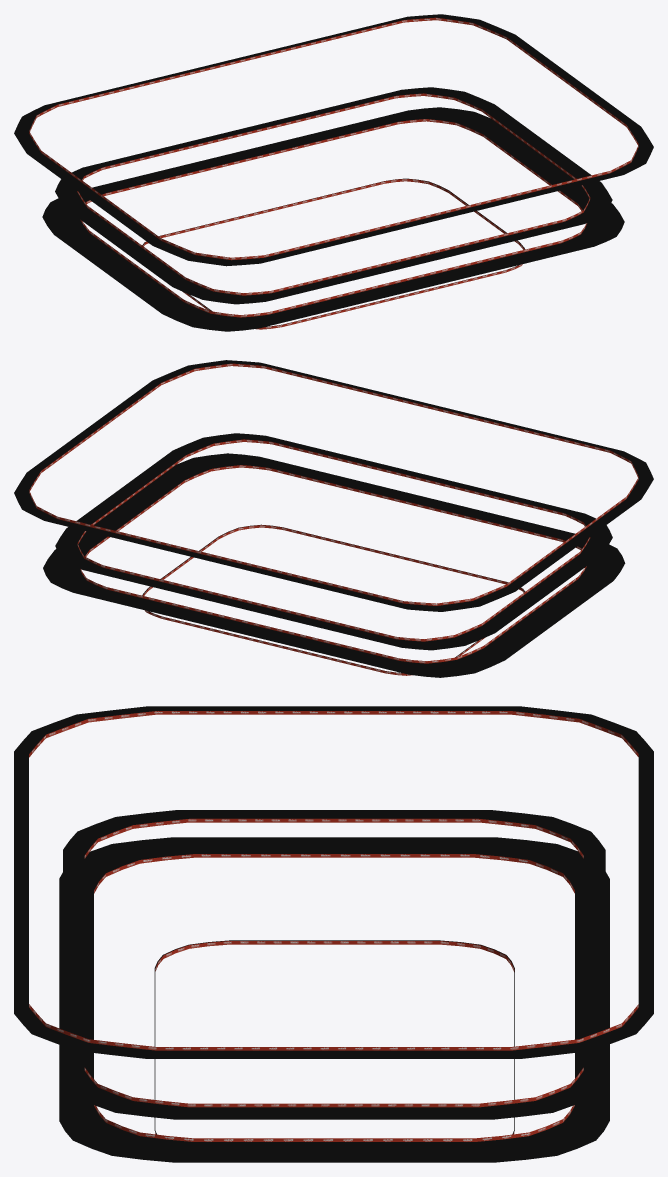
The model's file is vallas.FBX.
The picture shows the model from 3 angles, top to bottom: view 1: azimuth 30°, elevation 25°; view 2: azimuth 150°, elevation 25°; view 3: azimuth 270°, elevation 25°; orthographic projection. The views are drawn at different scales.
Parts seen in each view (by area): view 1: vallasPubli; view 2: vallasPubli; view 3: vallasPubli.
Part boxes in pixels (left/top/right/bottom): vallasPubli: left=14, top=14, right=653, bottom=331; vallasPubli: left=14, top=360, right=653, bottom=677; vallasPubli: left=14, top=706, right=653, bottom=1162.
Bounding box in the file's own units: 192 × 44.24 × 147.
2 materials, 1 textured.
